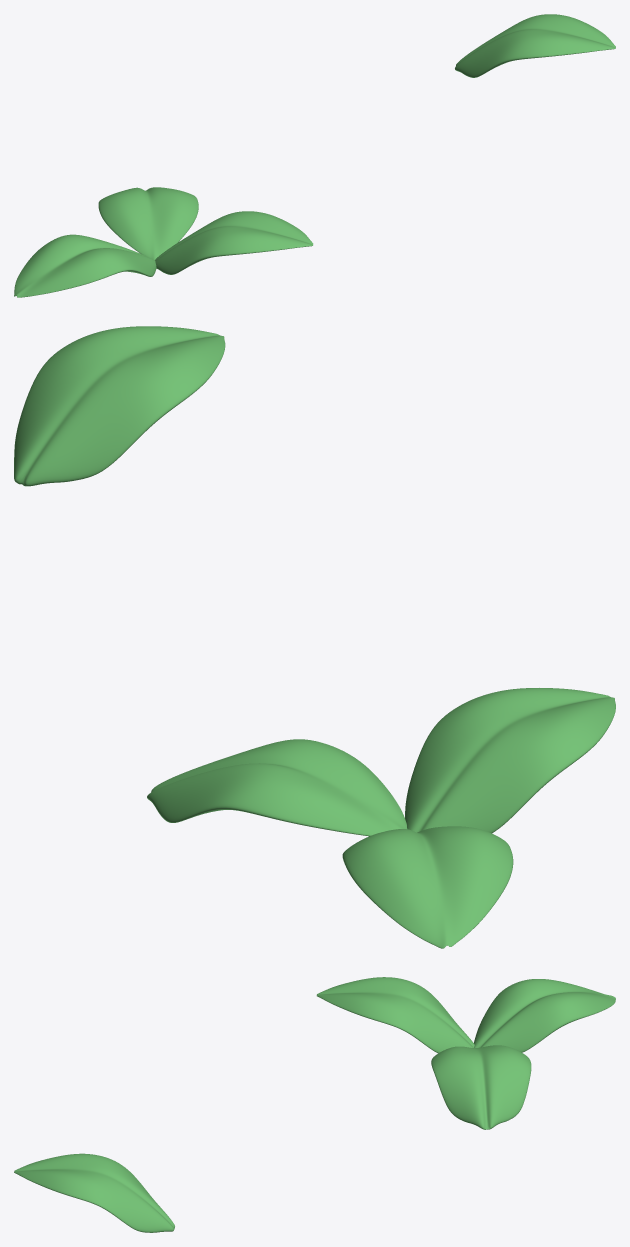
The model's file is plant.fbx.
3 renders of one model, top to bottom at view 1: azimuth 90°, elevation 25°; view 2: azimuth 150°, elevation 25°; view 3: azimuth 270°, elevation 25°, orthographic. The views are drawn at different scales.
Parts seen in each view (by area): view 1: leaf.002, leaf.003; view 2: leaf.002, leaf.003; view 3: leaf.002, leaf.003.
Boxes of the visible parts, x1=… form: leaf.002: x1=14, y1=187, x2=313, y2=297; leaf.003: x1=455, y1=14, x2=615, y2=77; leaf.002: x1=147, y1=688, x2=615, y2=948; leaf.003: x1=14, y1=326, x2=225, y2=486; leaf.002: x1=316, y1=977, x2=615, y2=1129; leaf.003: x1=14, y1=1153, x2=174, y2=1232.
Size of the model in its own units: 6.56 by 0.8259 by 6.81.
